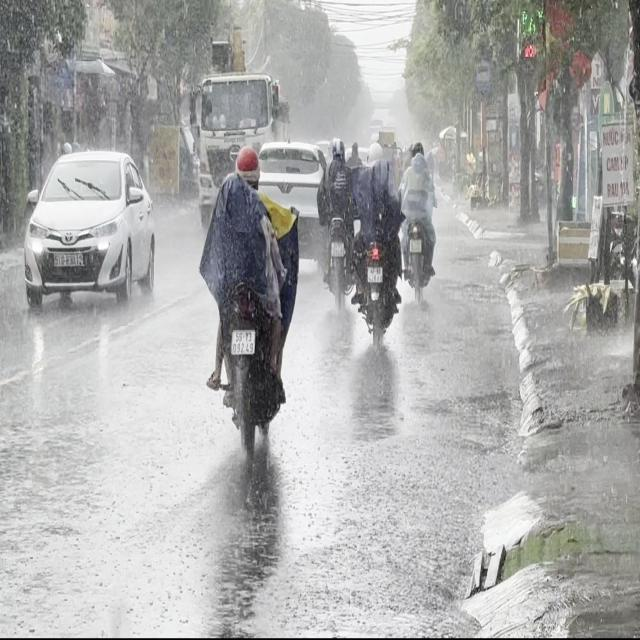helmet: (235, 144, 260, 183), (367, 139, 382, 163)
licenseplate: (198, 141, 296, 465), (350, 134, 402, 346)
nohelmet: (232, 329, 254, 353), (367, 265, 382, 282)
